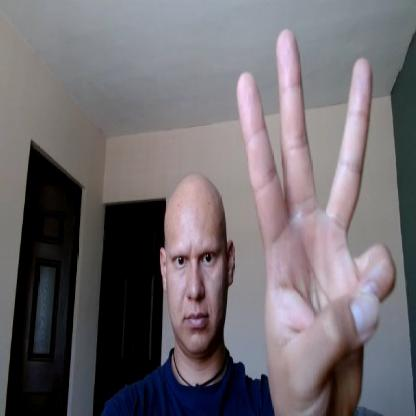W: (234, 27, 400, 415)
